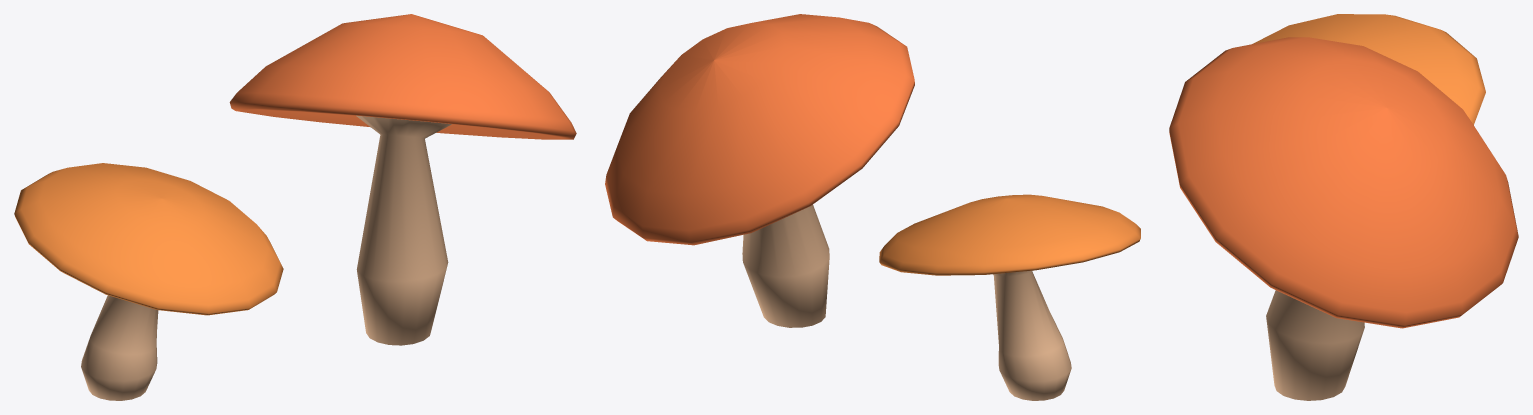
Rendered from MushroomSet2.fbx.
3 renders of one model, left to right at view 1: azimuth 30°, elevation 25°; view 2: azimuth 150°, elevation 25°; view 3: azimuth 270°, elevation 25°, orthographic. The views are drawn at different scales.
Visible parts, largest first — view 1: set2; view 2: set2; view 3: set2.
Boxes of the visible parts, x1=… form: set2: x1=14, y1=14, x2=576, y2=400; set2: x1=605, y1=14, x2=1140, y2=400; set2: x1=1169, y1=14, x2=1518, y2=400.
Bounding box in the file's own units: 88.97 × 48.86 × 47.36.
